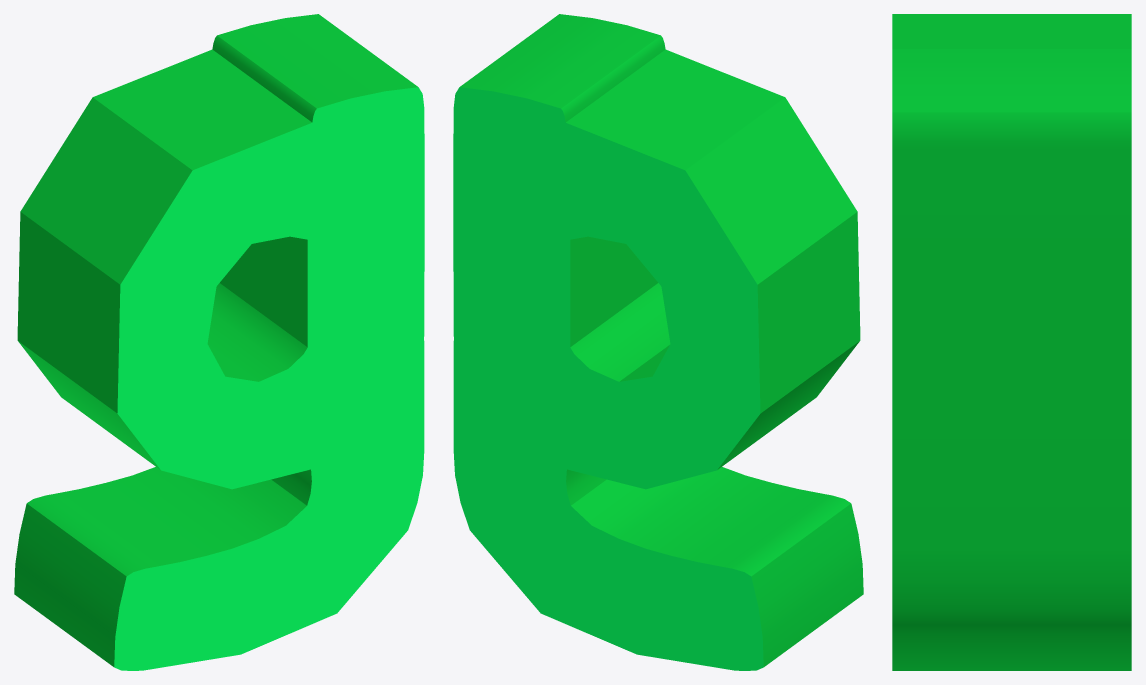
The model's file is G_Zyzol_Green.glb.
3 renders of one model, left to right at view 1: azimuth 30°, elevation 25°; view 2: azimuth 150°, elevation 25°; view 3: azimuth 270°, elevation 25°, orthographic. The views are drawn at different scales.
Visible parts, largest first — view 1: g_Zyzol_Green; view 2: g_Zyzol_Green; view 3: g_Zyzol_Green.
Boxes of the visible parts, x1=… form: g_Zyzol_Green: x1=14, y1=14, x2=424, y2=670; g_Zyzol_Green: x1=453, y1=14, x2=863, y2=670; g_Zyzol_Green: x1=892, y1=14, x2=1131, y2=670.
Size of what is drawn, in the model's own units: 0.0807 by 0.1315 by 0.045.
2 materials, 2 textured.
